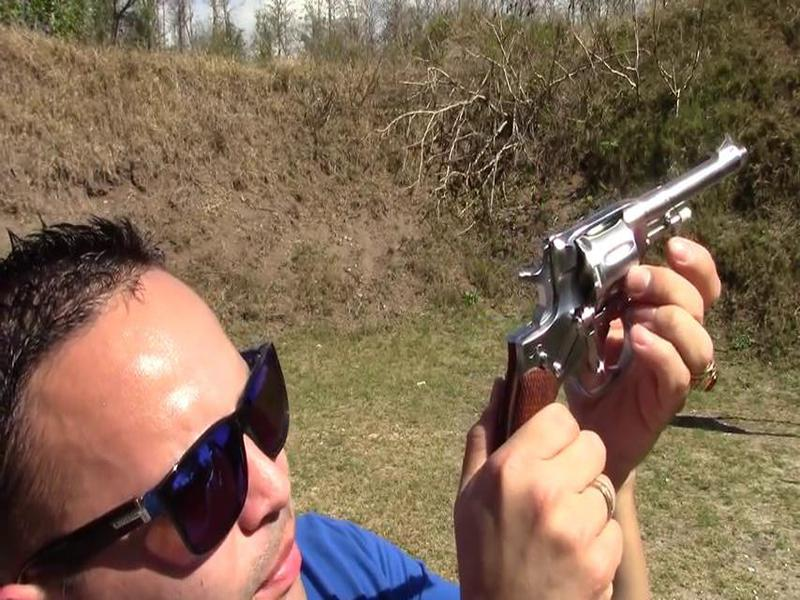Revolver: (462, 119, 782, 472)
